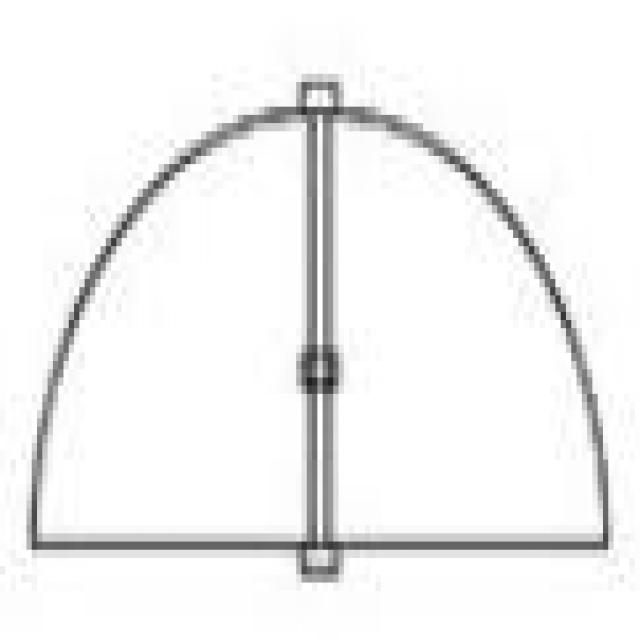door: (26, 74, 603, 533)
